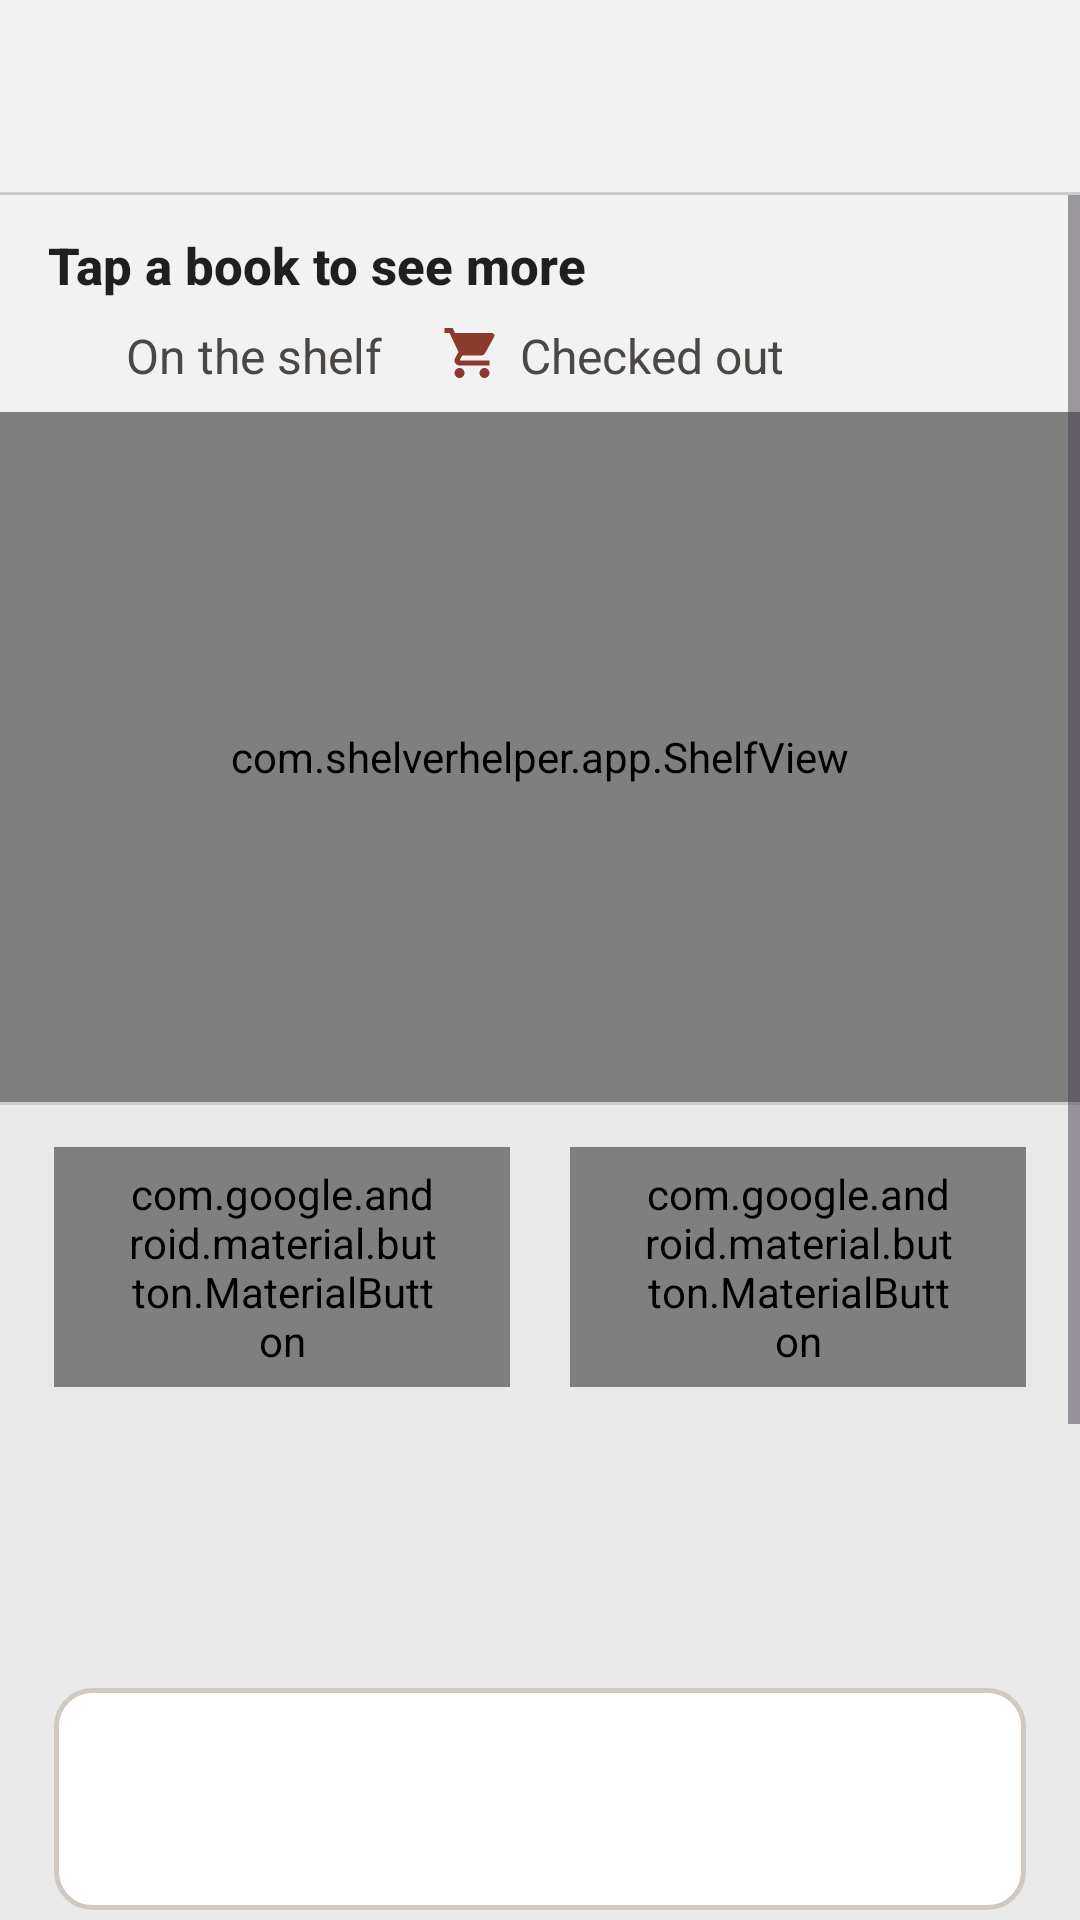

Icons on this 1080 x 1920 Android screen, each with its box as (x1, y1, x2, y2):
cart: (444, 328, 495, 378)
